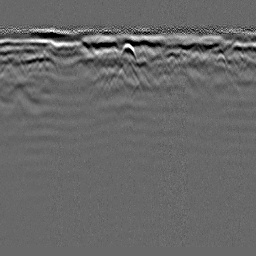cavity: (120, 40, 136, 62)
